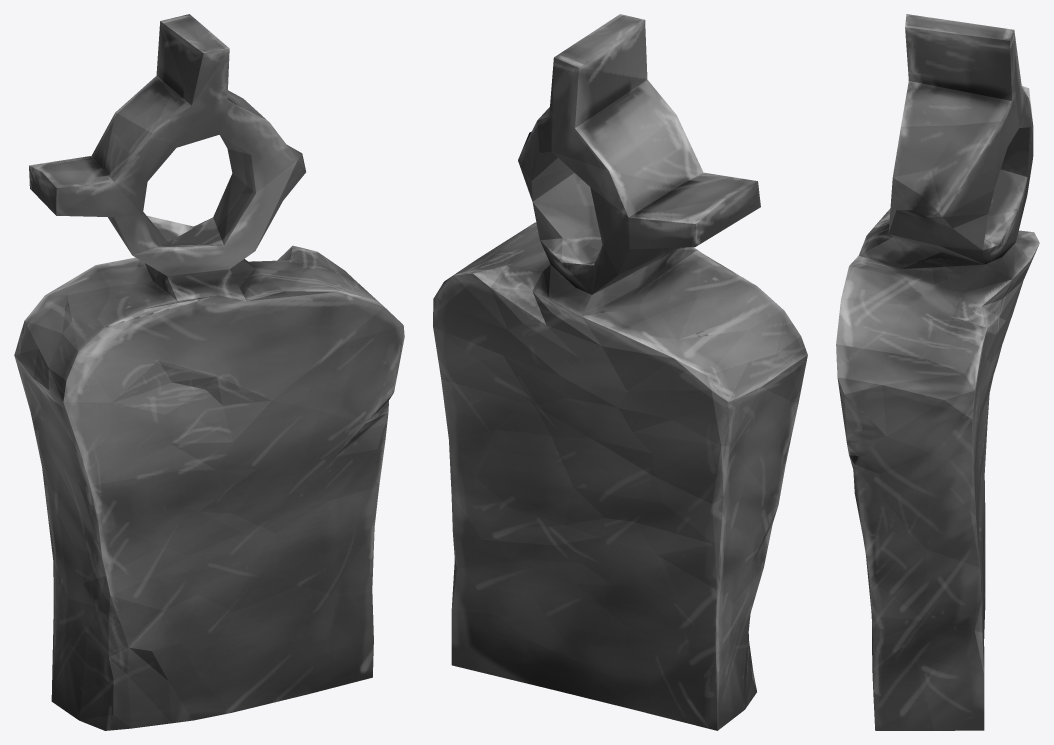
File: gravestone04_b.fbx
3 renders of one model, left to right at view 1: azimuth 30°, elevation 25°; view 2: azimuth 150°, elevation 25°; view 3: azimuth 270°, elevation 25°, orthographic.
Parts seen in each view (by area): view 1: Gravestone04_lp_b; view 2: Gravestone04_lp_b; view 3: Gravestone04_lp_b.
Part boxes in pixels (x1=…): Gravestone04_lp_b: x1=14, y1=14, x2=404, y2=730; Gravestone04_lp_b: x1=433, y1=14, x2=807, y2=730; Gravestone04_lp_b: x1=836, y1=14, x2=1039, y2=730.
Size of the model in its own units: 0.6849 by 0.3701 by 1.29.
